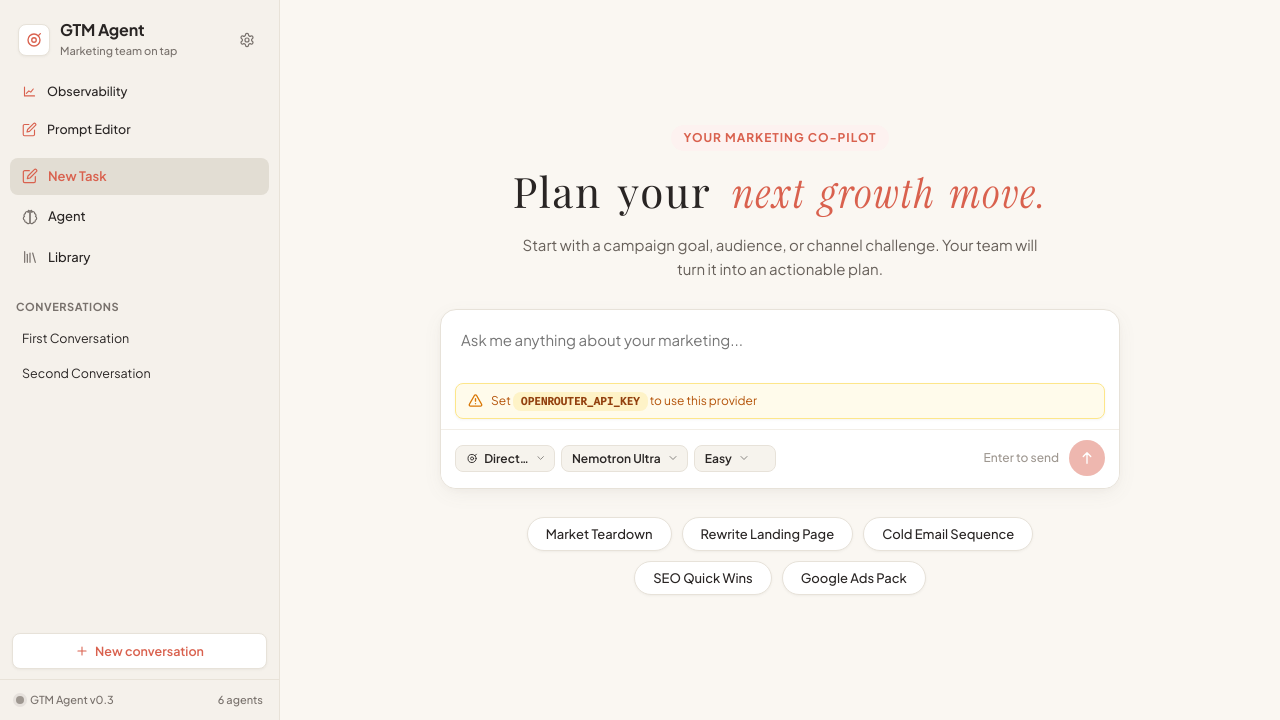
it: App conversation threads regression suite › allows switching between multiple conversation threads
The width and height of the screenshot is (1280, 720).
expect the text "Second Conversation" is shown: met, box [22,365,151,381]
// Click first thread
Step 1. Click the text "First Conversation" → click(76, 338), box [22,330,129,346]
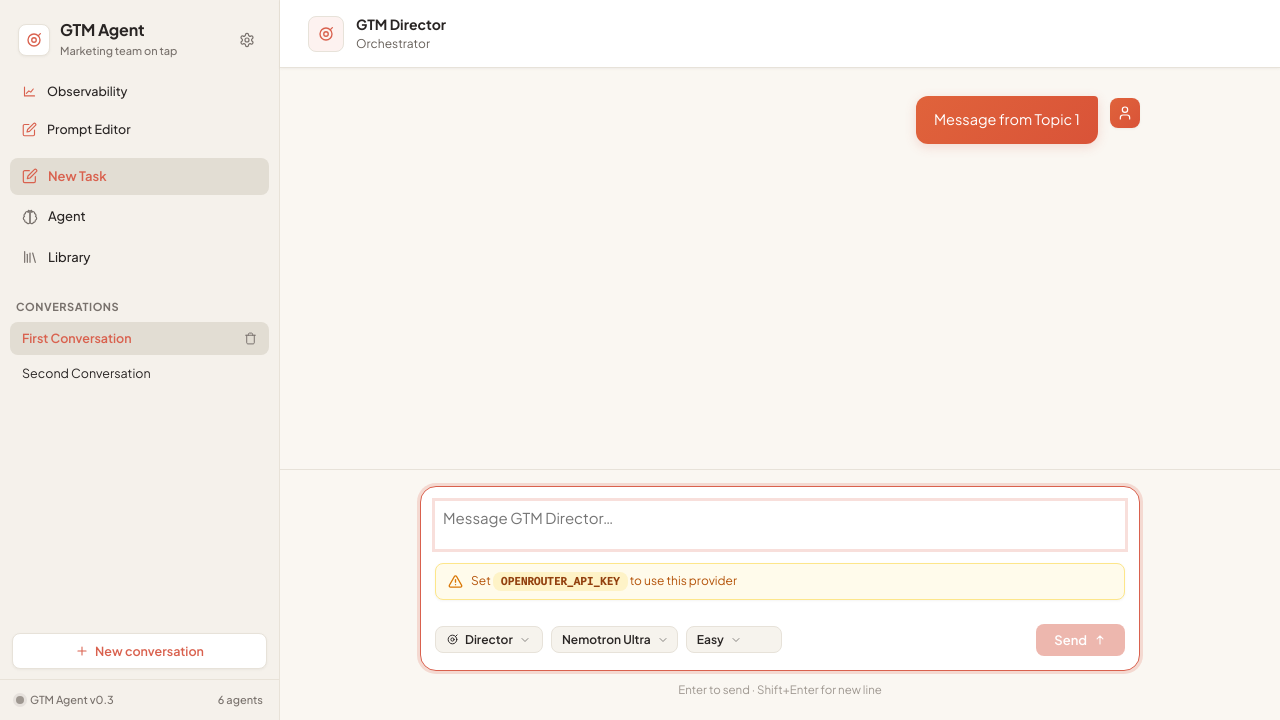
expect the text "Message from Topic 2" is not shown: met
expect the text "Message from Topic 1" is shown: met, box [934,108,1080,132]
// Click second thread
Step 2. Click the text "Second Conversation" → click(86, 373), box [22,365,151,381]
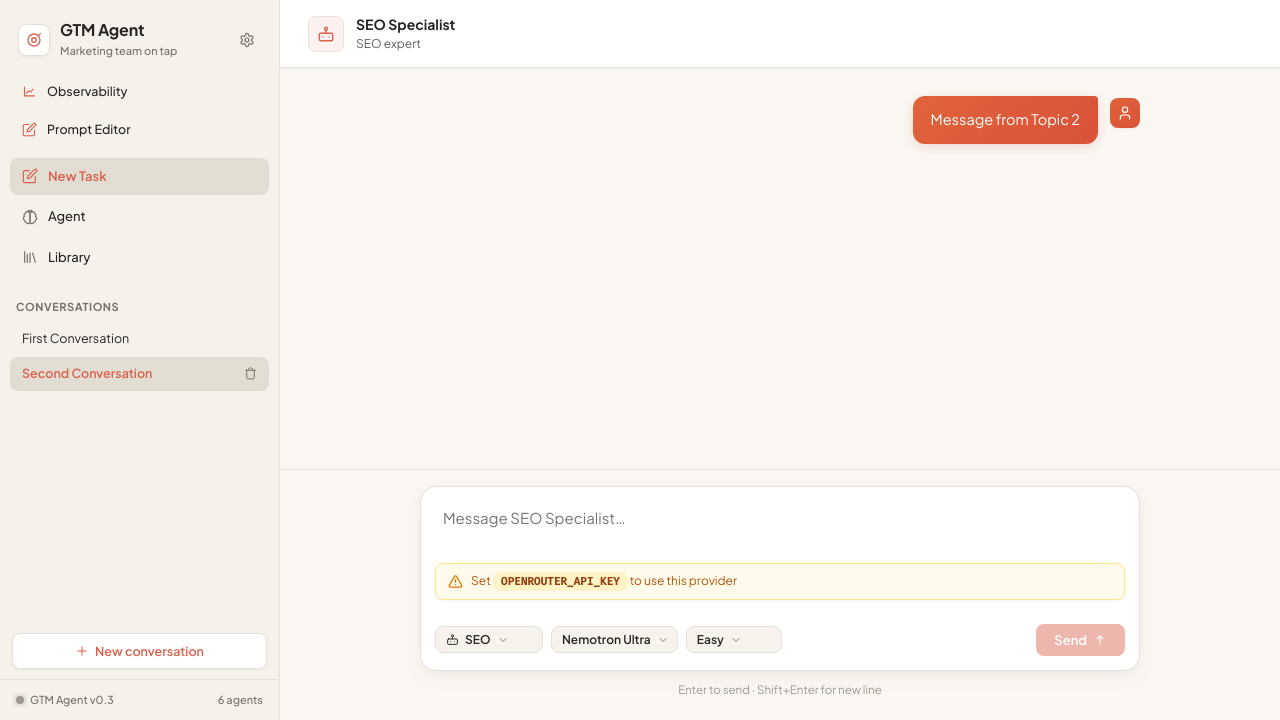
expect the text "Message from Topic 2" is shown: met, box [931,108,1080,132]
expect the text "Message from Topic 1" is gone: met
